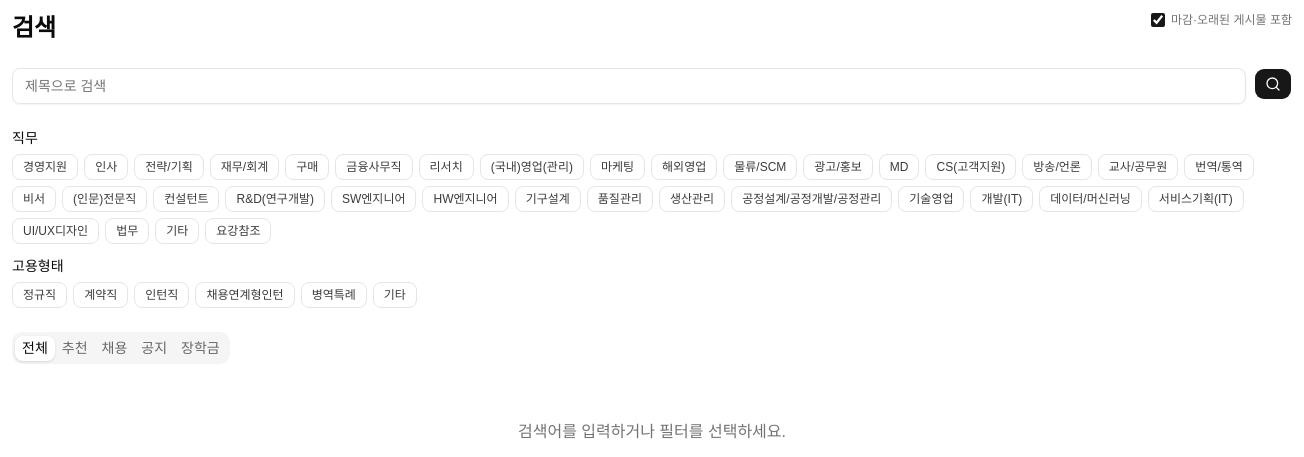
SearchPage › shows no results message when search returns empty
Type "없는것" into the field with placeholder "제목으로 검색" at x=629, y=86, box [12,68,1246,104]
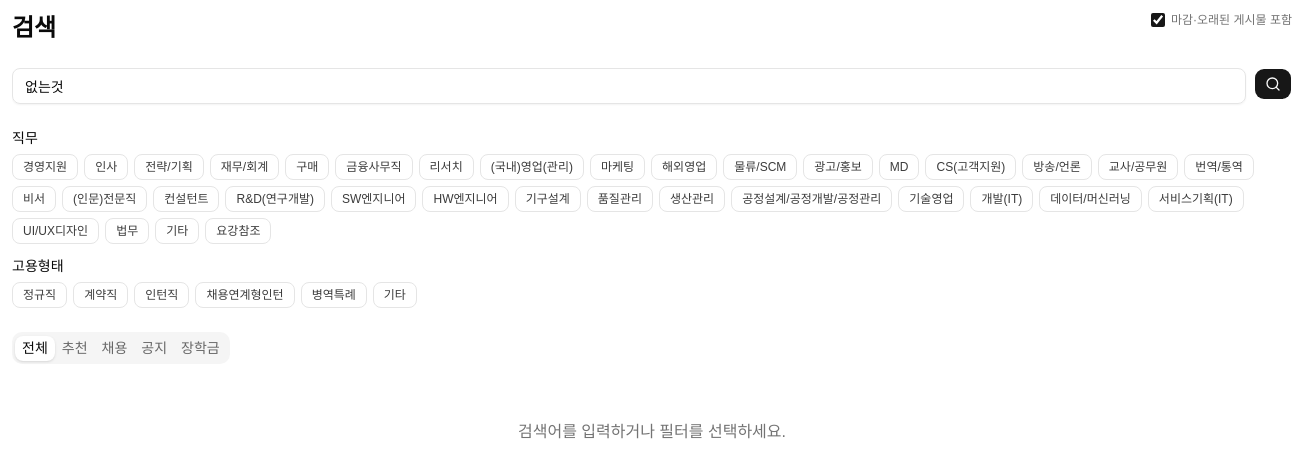
Press Enter in the field with placeholder "제목으로 검색", box [12,68,1246,104]
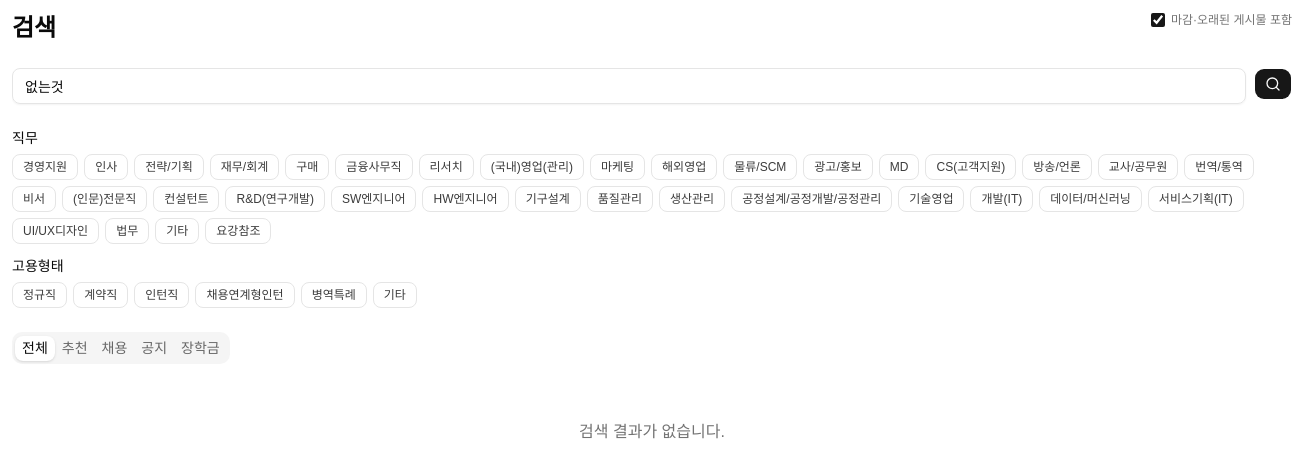
Result: the text "검색 결과가 없습니다." is shown at [579,423,725,440]
